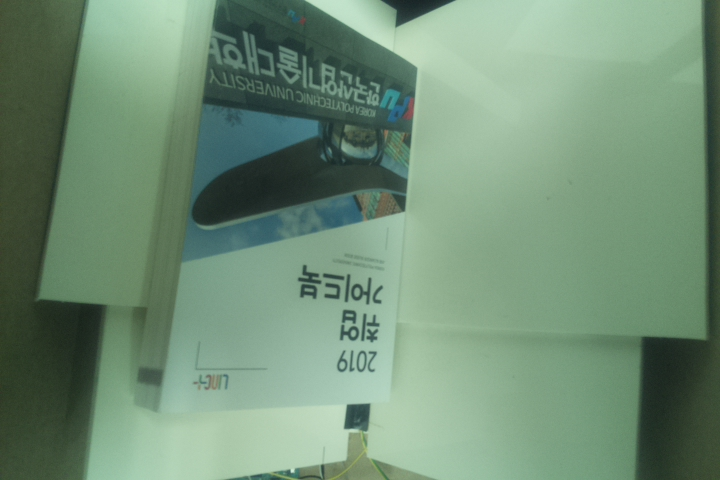book: (130, 1, 424, 418)
